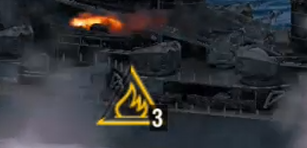3fire: (91, 92, 169, 133)
